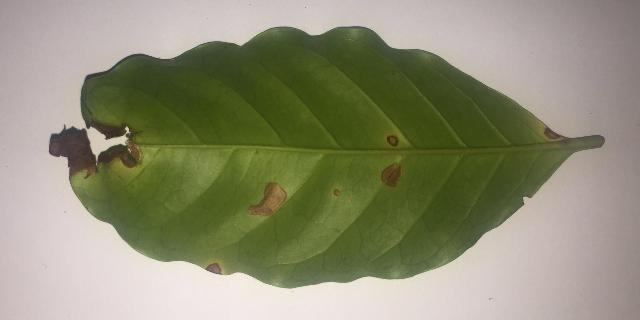cercospora: (49, 117, 141, 179), (248, 183, 286, 216), (381, 163, 402, 187), (540, 125, 559, 140), (207, 262, 222, 274), (387, 135, 399, 147), (333, 190, 340, 196)
